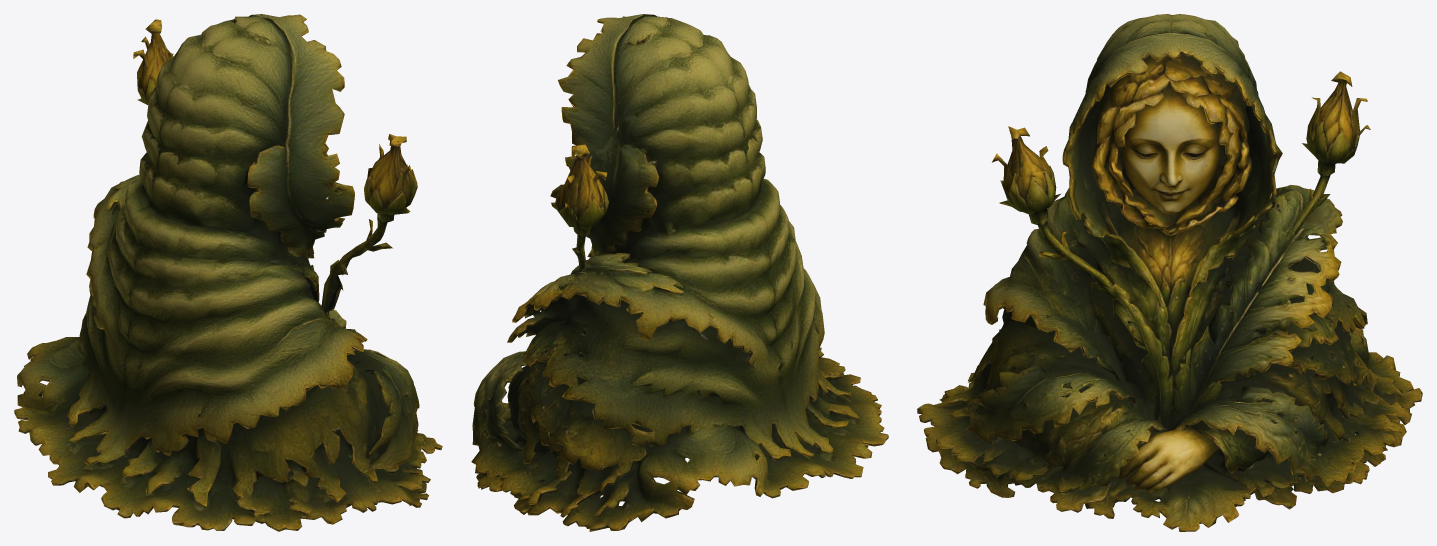
Rendered from fantasy+plant+creature+3d+model.glb.
3 views of the same model, side by side, from view 1: azimuth 30°, elevation 25°; view 2: azimuth 150°, elevation 25°; view 3: azimuth 270°, elevation 25° (orthographic).
Visible parts, largest first — view 1: tripo_node_d35884c2-0425-42ba-aba5-9f18be23172b; view 2: tripo_node_d35884c2-0425-42ba-aba5-9f18be23172b; view 3: tripo_node_d35884c2-0425-42ba-aba5-9f18be23172b.
Boxes of the visible parts, x1=… form: tripo_node_d35884c2-0425-42ba-aba5-9f18be23172b: x1=14, y1=14, x2=442, y2=531; tripo_node_d35884c2-0425-42ba-aba5-9f18be23172b: x1=471, y1=14, x2=888, y2=531; tripo_node_d35884c2-0425-42ba-aba5-9f18be23172b: x1=917, y1=14, x2=1422, y2=531.
Bounding box in the file's own units: 0.8447 × 0.9419 × 1.
1 material, 1 textured.
